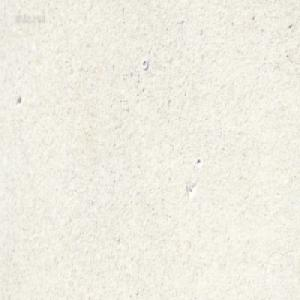Washer: (142, 58, 148, 69)
